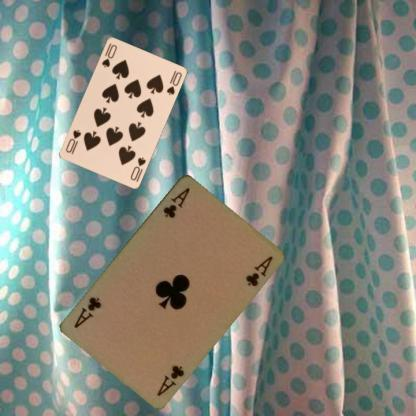10s: (99, 40, 118, 69), (128, 154, 146, 182)
Ac: (154, 362, 186, 397), (160, 184, 191, 219)
